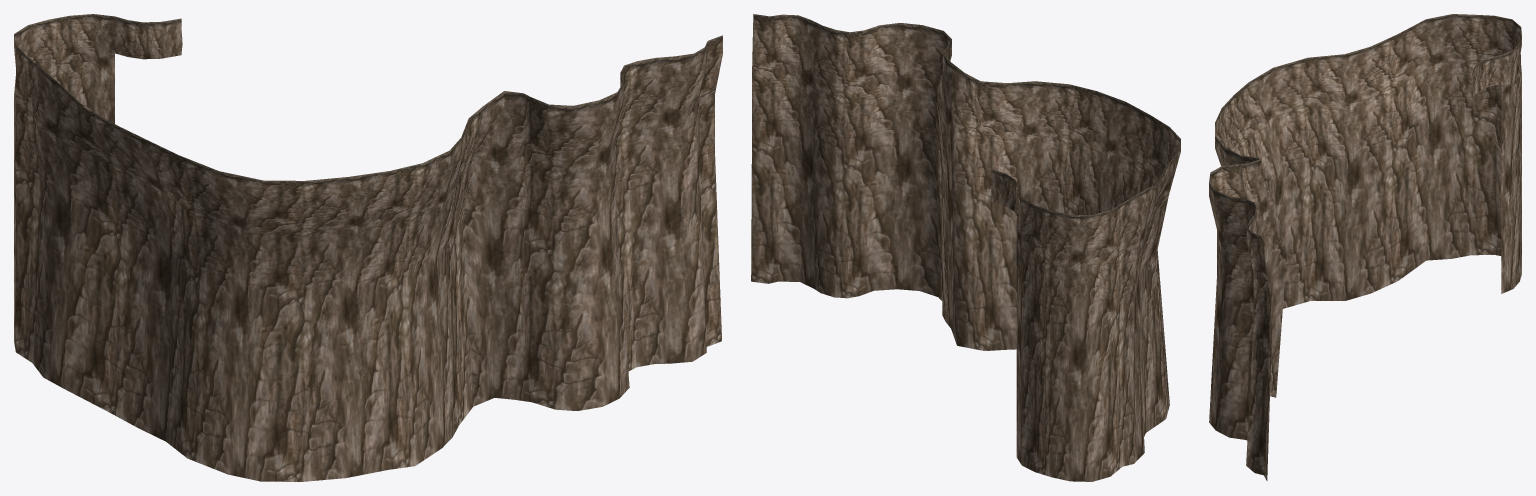
The model's file is OVERHILL_A_01_LINE79.fbx.
3 renders of one model, left to right at view 1: azimuth 30°, elevation 25°; view 2: azimuth 150°, elevation 25°; view 3: azimuth 270°, elevation 25°, orthographic. The views are drawn at different scales.
Visible parts, largest first — view 1: OVERHILL_A_01_LINE79; view 2: OVERHILL_A_01_LINE79; view 3: OVERHILL_A_01_LINE79.
Part boxes in pixels (bbox=[...]): OVERHILL_A_01_LINE79: bbox=[14, 14, 722, 481]; OVERHILL_A_01_LINE79: bbox=[751, 14, 1180, 481]; OVERHILL_A_01_LINE79: bbox=[1209, 14, 1521, 481].
Size of the model in its own units: 326413 by 193551 by 201313.
Materials: 2 (2 with a texture image).
